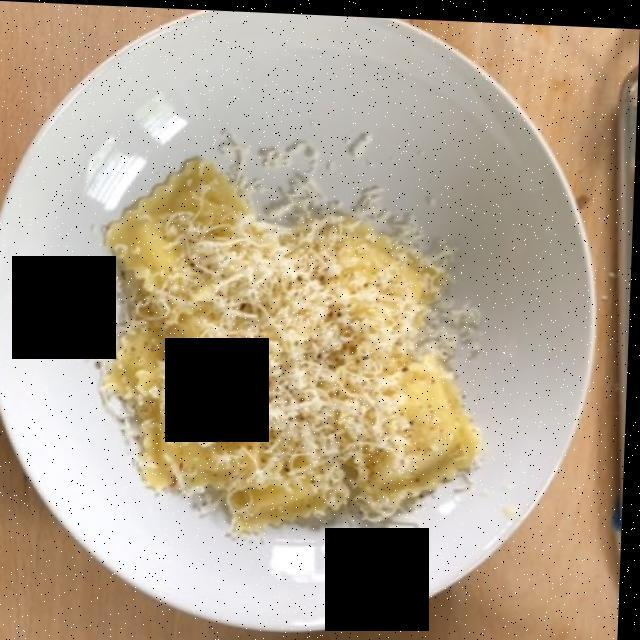cheese: (179, 209, 385, 461)
